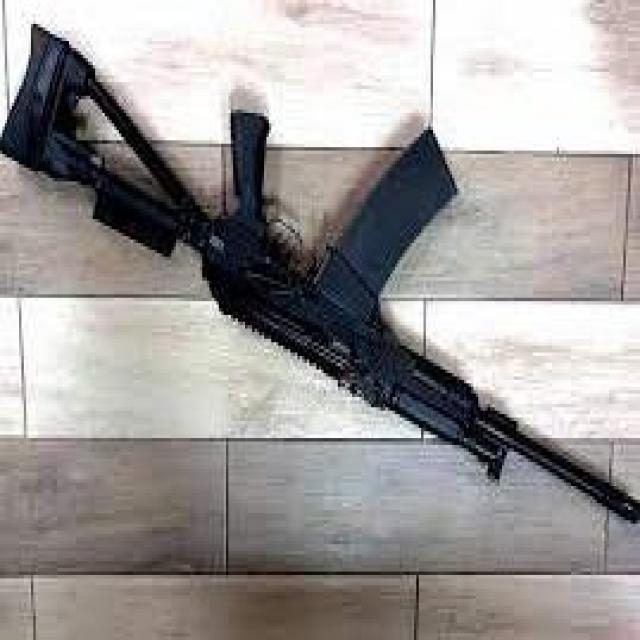weapon: (0, 21, 640, 524)
